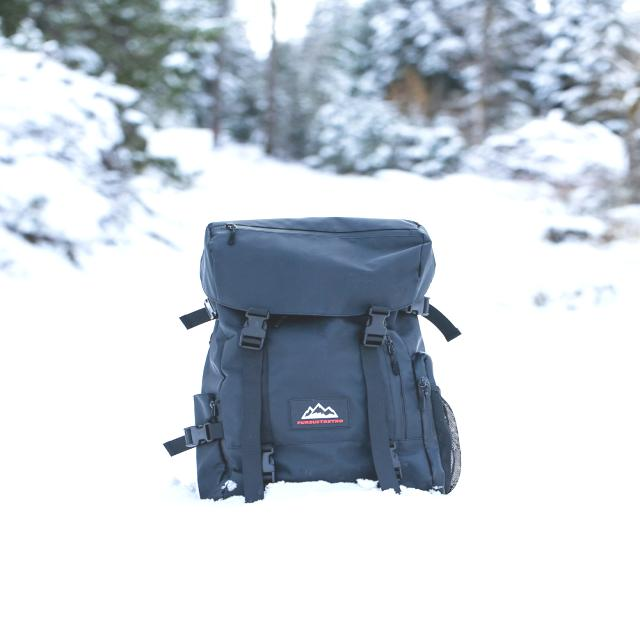backpack: (164, 217, 464, 504)
